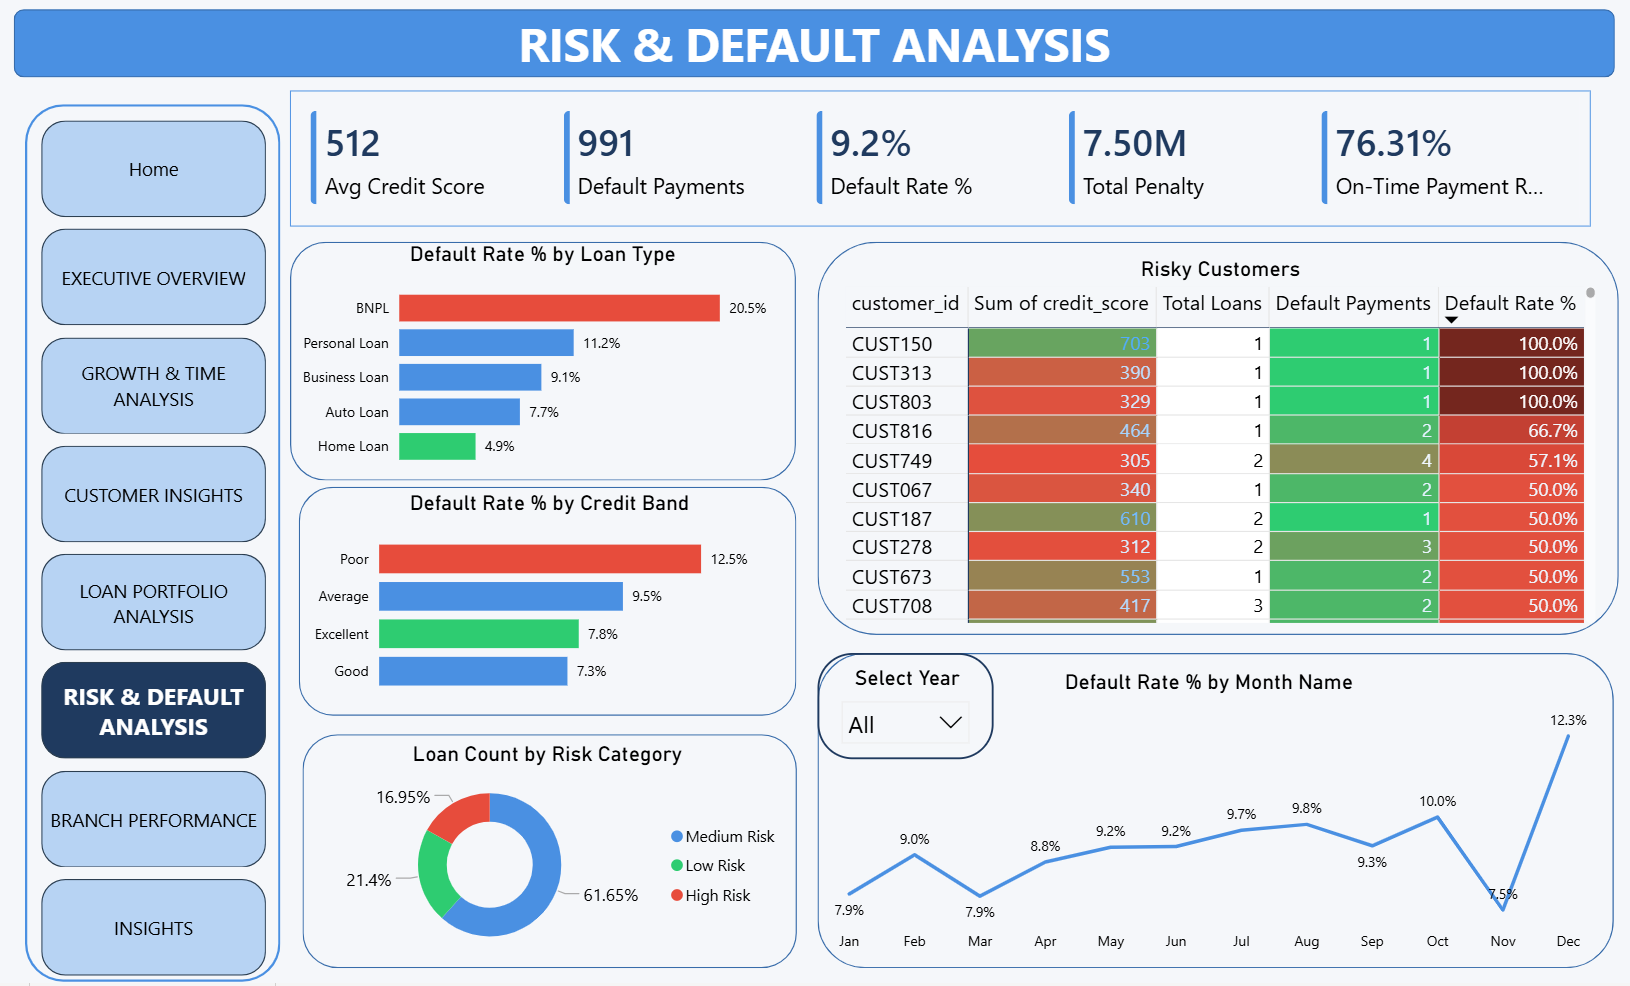

What the dashboard file says about the page in this screenshot:
{"tool":"powerbi","page":{"name":"RISK & DEFAULT ANALYSIS","canvas":[1400,850],"ordinal":7},"visuals":[{"type":"shape","box":[21.4,95.5,219.3,753.4],"z":0,"group":"g1"},{"type":"shape","box":[256.4,424.4,427.3,196.5],"z":0},{"type":"shape","box":[259.2,636.6,424.4,200.8],"z":1000},{"type":"shape","box":[249.2,213.6,434.4,205.1],"z":2000},{"type":"shape","box":[702.2,566.9,683.6,270.6],"z":3000},{"type":"shape","box":[702.2,213.6,687.9,337.6],"z":4000},{"type":"shape","box":[12,13.5,1374.8,58.5],"z":5000},{"type":"cardVisual","fields":{"Data":["_Measures.Avg Credit Score","_Measures.Default Payments","_Measures.Default Rate %","_Measures.Total Penalty","_Measures.On-Time Payment Rate"]},"box":[249.2,84,1116.6,116.8],"z":6000},{"type":"clusteredBarChart","fields":{"Category":["Loan_Type.loan_type_name"],"Y":["_Measures.Default Rate %"]},"box":[249.2,213.6,434.4,205.1],"z":7000},{"type":"barChart","fields":{"Category":["Customers.Credit Band"],"Y":["_Measures.Default Rate %"]},"box":[259.2,427.3,424.4,186.6],"z":8000},{"type":"lineChart","fields":{"Y":["_Measures.Default Rate %"],"Category":["Calendar.Month Name"]},"box":[702.2,581.1,672.3,252.1],"z":9000},{"type":"pivotTable","title":"Risky Customers","fields":{"Rows":["Customers.customer_id"],"Values":["Sum(Customers.credit_score)","_Measures.Total Loans","_Measures.Default Payments","_Measures.Default Rate %"]},"box":[720.7,226.5,653.7,319],"z":10000},{"type":"slicer","title":"Select Year","fields":{"Values":["Calendar.Date.Variation.Date Hierarchy.Year"]},"box":[702.2,566.9,151,91.2],"z":11000},{"type":"group","id":"g1","title":"Group 1","box":[21.4,95.5,219.3,753.4],"z":12000},{"type":"donutChart","title":"Loan Count by Risk Category","fields":{"Category":["Customers.Risk Category"],"Y":["_Measures.Total Loans"]},"box":[260.6,642.3,418.7,190.9],"z":13000},{"type":"pageNavigator","box":[35.6,109.7,193.7,736.3],"z":14000,"group":"g1"}]}

Visuals, with their boxes in screenshot pixels (x1, y1, x2, y2), scaled from the page's 1400x850 canvas onto the 1630x986 screenshot:
shape: <region>25, 111, 280, 985</region>
shape: <region>299, 492, 796, 720</region>
shape: <region>302, 738, 796, 971</region>
shape: <region>290, 248, 796, 486</region>
shape: <region>818, 658, 1613, 971</region>
shape: <region>818, 248, 1618, 639</region>
shape: <region>14, 16, 1615, 84</region>
cardVisual - _Measures.Avg Credit Score x _Measures.Default Payments: <region>290, 97, 1590, 233</region>
clusteredBarChart - Loan_Type.loan_type_name x _Measures.Default Rate %: <region>290, 248, 796, 486</region>
barChart - Customers.Credit Band x _Measures.Default Rate %: <region>302, 496, 796, 712</region>
lineChart - _Measures.Default Rate % x Calendar.Month Name: <region>818, 674, 1600, 967</region>
"Risky Customers" pivotTable: <region>839, 263, 1600, 633</region>
"Select Year" slicer: <region>818, 658, 993, 763</region>
"Group 1" group: <region>25, 111, 280, 985</region>
"Loan Count by Risk Category" donutChart: <region>303, 745, 791, 967</region>
pageNavigator: <region>41, 127, 267, 981</region>
